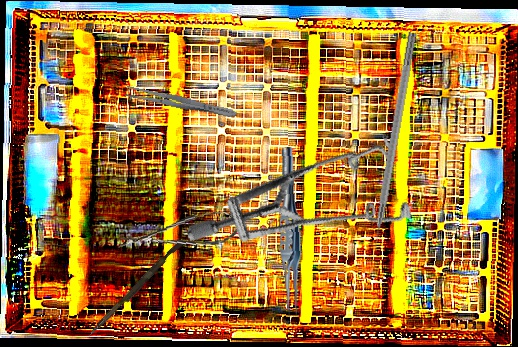Dressing Forceps: (124, 83, 238, 122)
Hook Surgical: (365, 31, 419, 263)
Micro Scissor: (115, 209, 247, 255)
Pusher: (86, 238, 184, 341)
Speculum: (185, 85, 433, 305)
Tissue Forceps: (274, 147, 305, 317)
